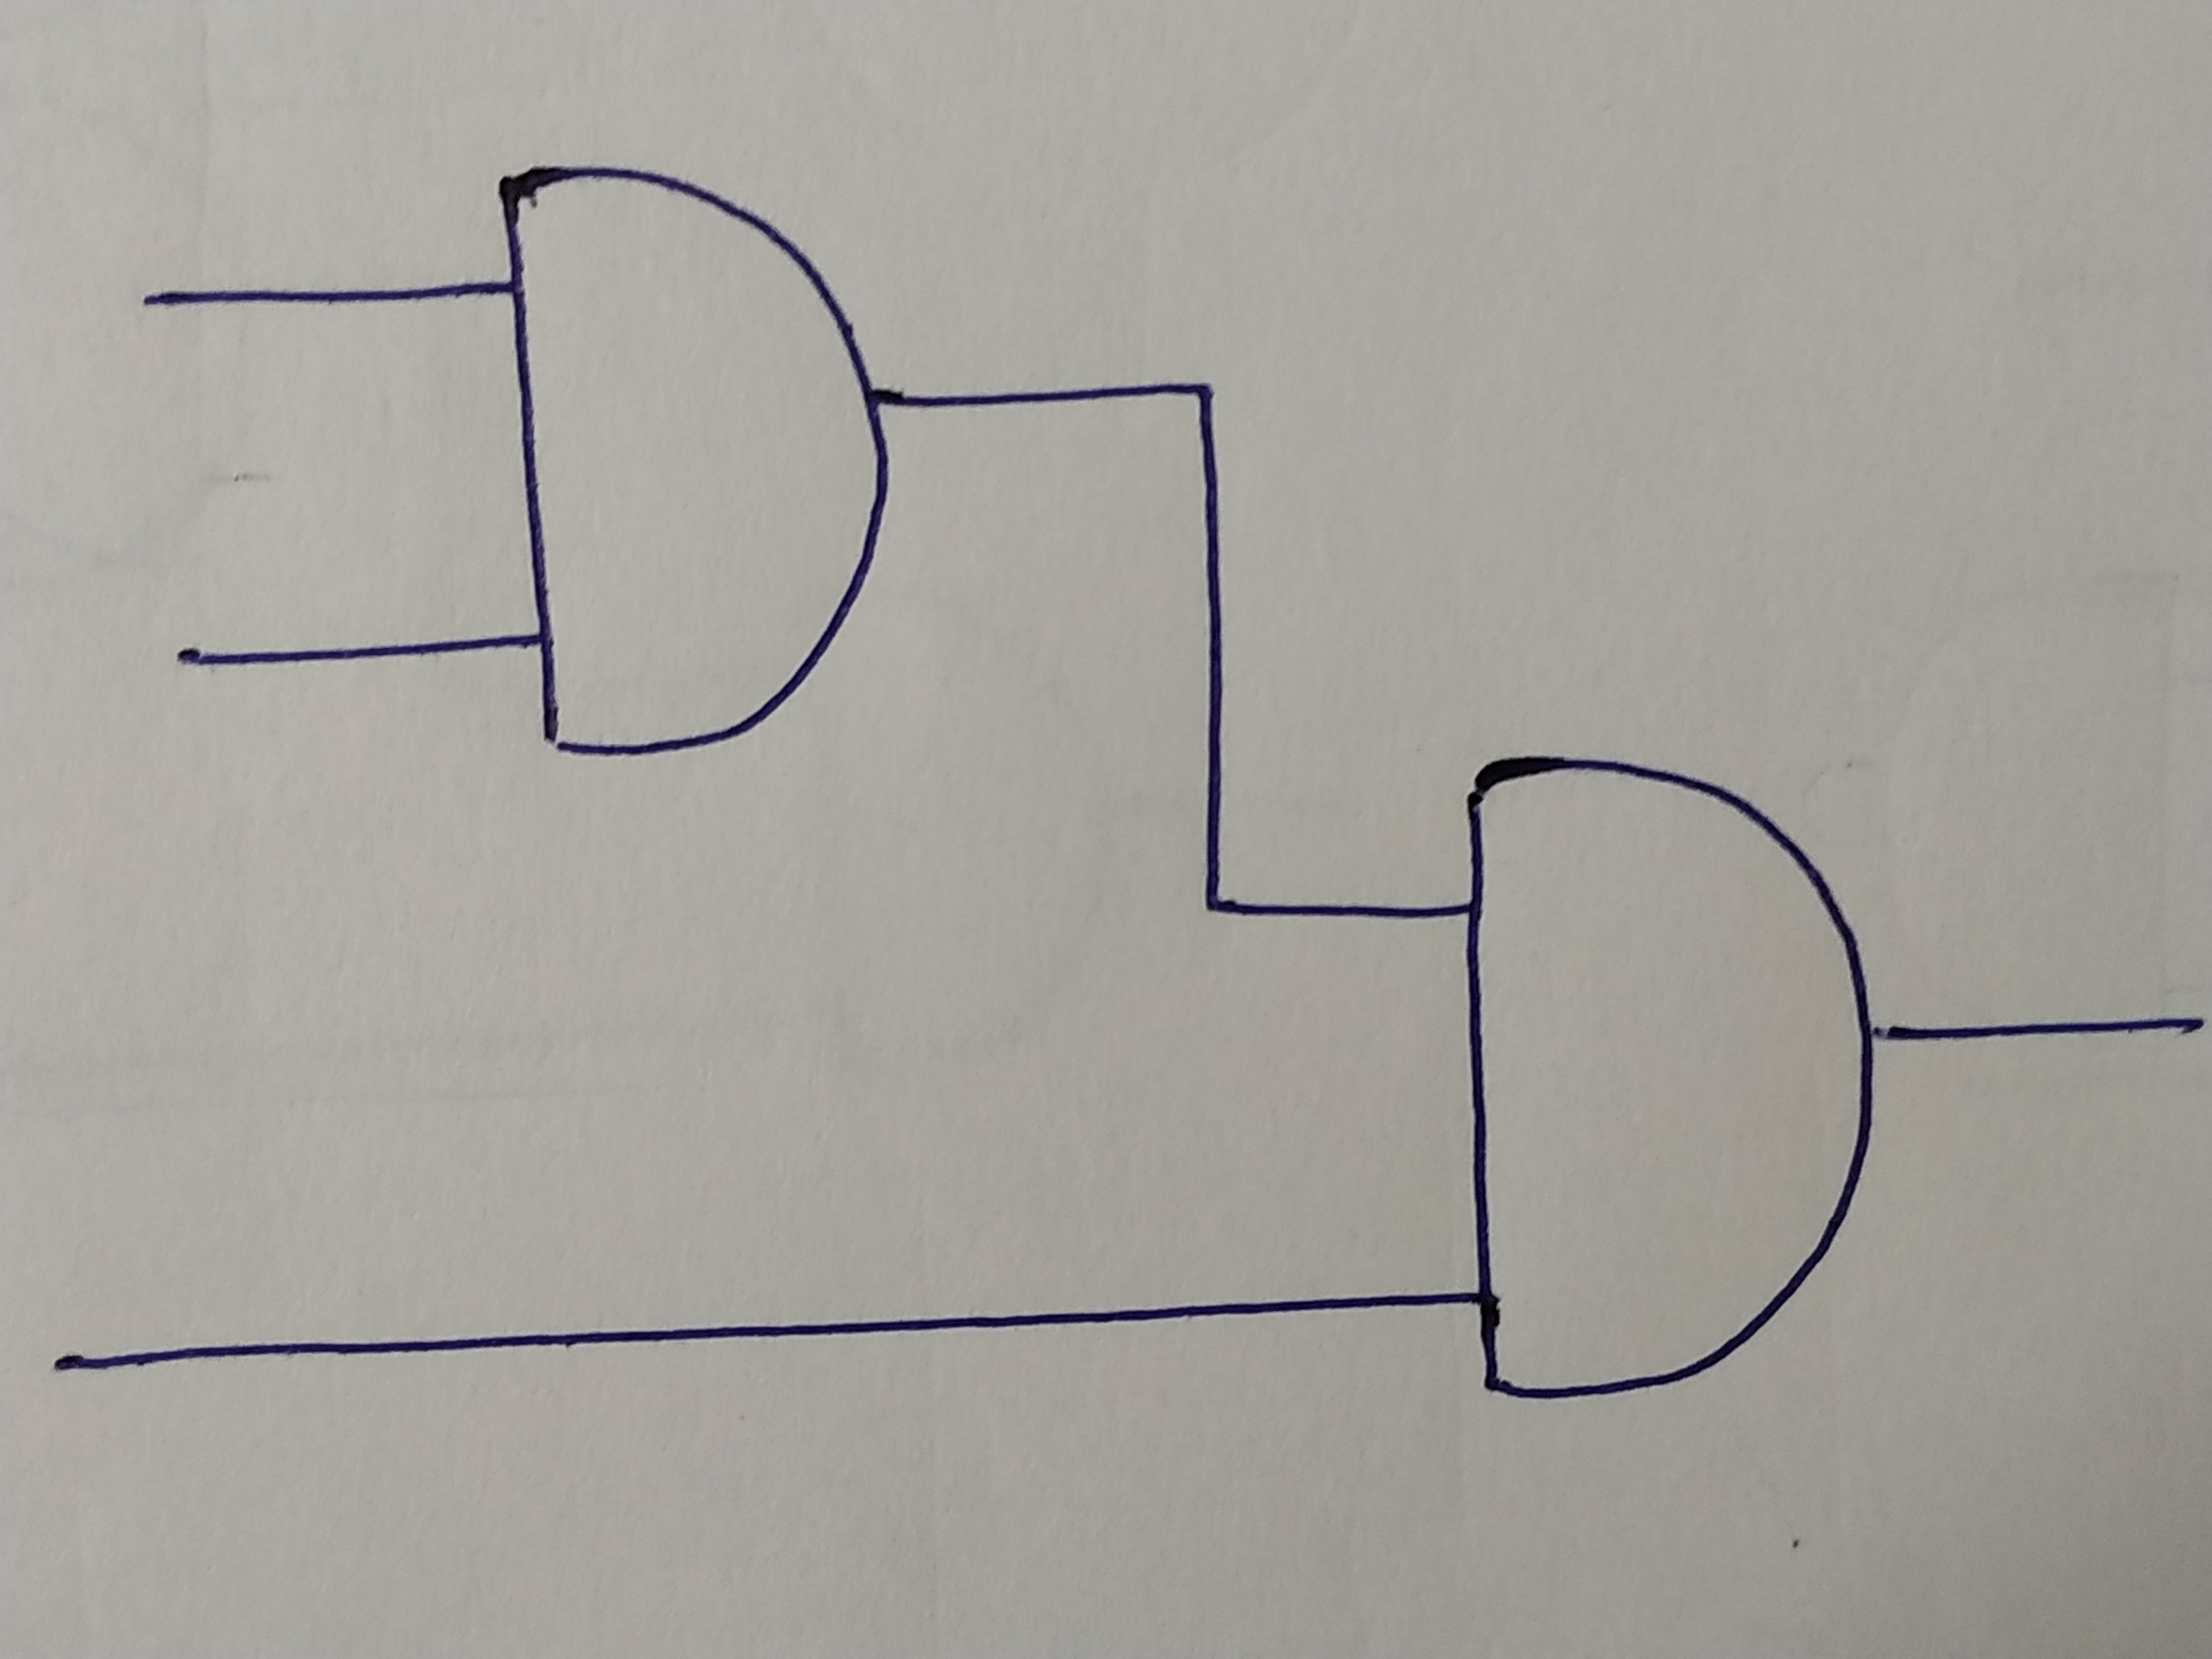and: (1461, 765, 1879, 1398), (496, 167, 883, 758)
